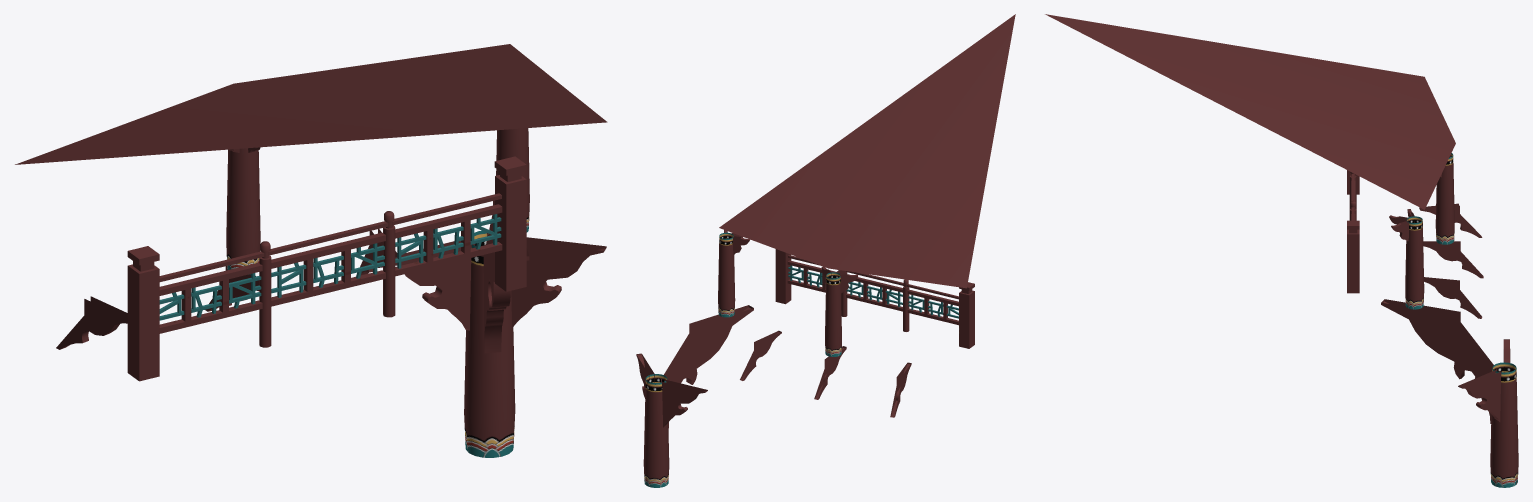
File: living_room_ceiling.fbx
3 renders of one model, left to right at view 1: azimuth 30°, elevation 25°; view 2: azimuth 150°, elevation 25°; view 3: azimuth 270°, elevation 25°, orthographic. The views are drawn at different scales.
Parts seen in each view (by area): view 1: living_room_ceiling; view 2: living_room_ceiling; view 3: living_room_ceiling.
Boxes of the visible parts, x1,y1,x2,y2 form: living_room_ceiling: [15, 44, 607, 457]; living_room_ceiling: [636, 14, 1015, 487]; living_room_ceiling: [1045, 14, 1518, 487].
Bounding box in the file's own units: 1257 × 1351 × 1498.
